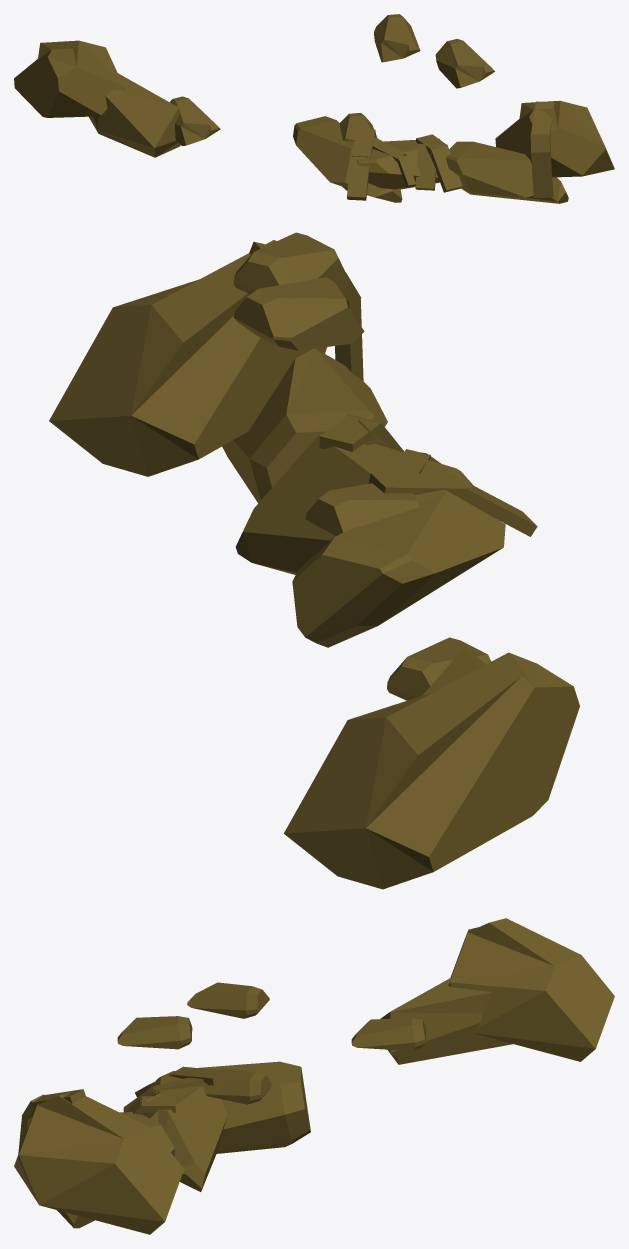
File: WaterFall.fbx
The picture shows the model from 3 angles, top to bottom: view 1: azimuth 30°, elevation 25°; view 2: azimuth 150°, elevation 25°; view 3: azimuth 270°, elevation 25°; orthographic projection. The views are drawn at different scales.
Parts seen in each view (by area): view 1: WaterFall; view 2: WaterFall; view 3: WaterFall.
Boxes of the visible parts, bbox=[...] form: WaterFall: bbox=[14, 14, 614, 203]; WaterFall: bbox=[49, 232, 579, 889]; WaterFall: bbox=[14, 918, 614, 1234].
Size of the model in its own units: 2374 by 906 by 2665.
